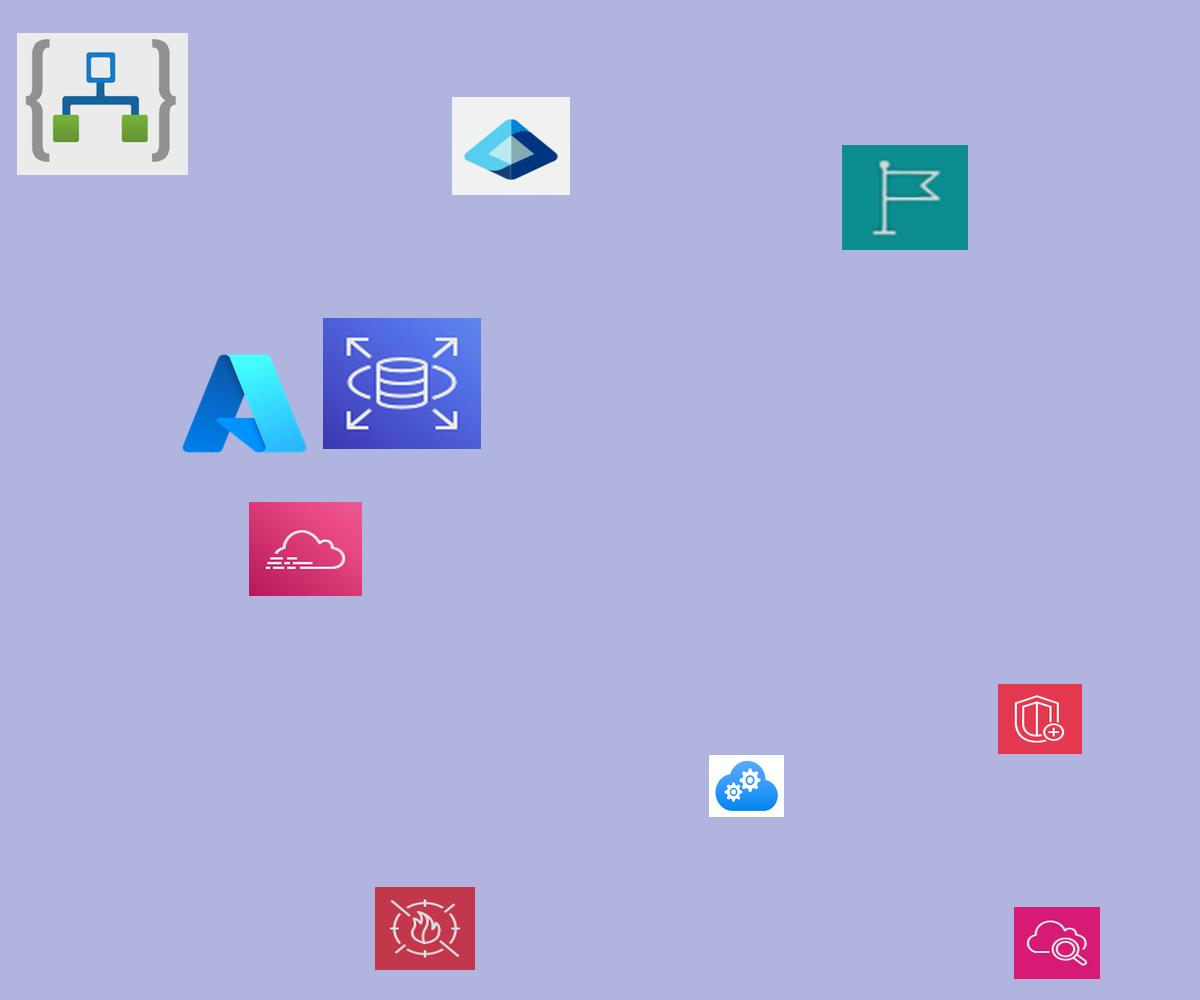AWS-CloudTrail: (249, 502, 362, 596)
AWS-CloudWatch: (1014, 907, 1100, 979)
AWS-RDS: (323, 318, 481, 449)
AWS-Region: (842, 145, 968, 250)
AWS-Shield: (998, 684, 1082, 754)
AWS-WAF: (375, 887, 475, 970)
Azure_cloud_services: (709, 755, 784, 817)
Azure_integration-204-Logic-Apps: (17, 33, 188, 175)
Azure_microsoft_entra: (452, 97, 570, 195)
Azure_services: (177, 347, 312, 460)
